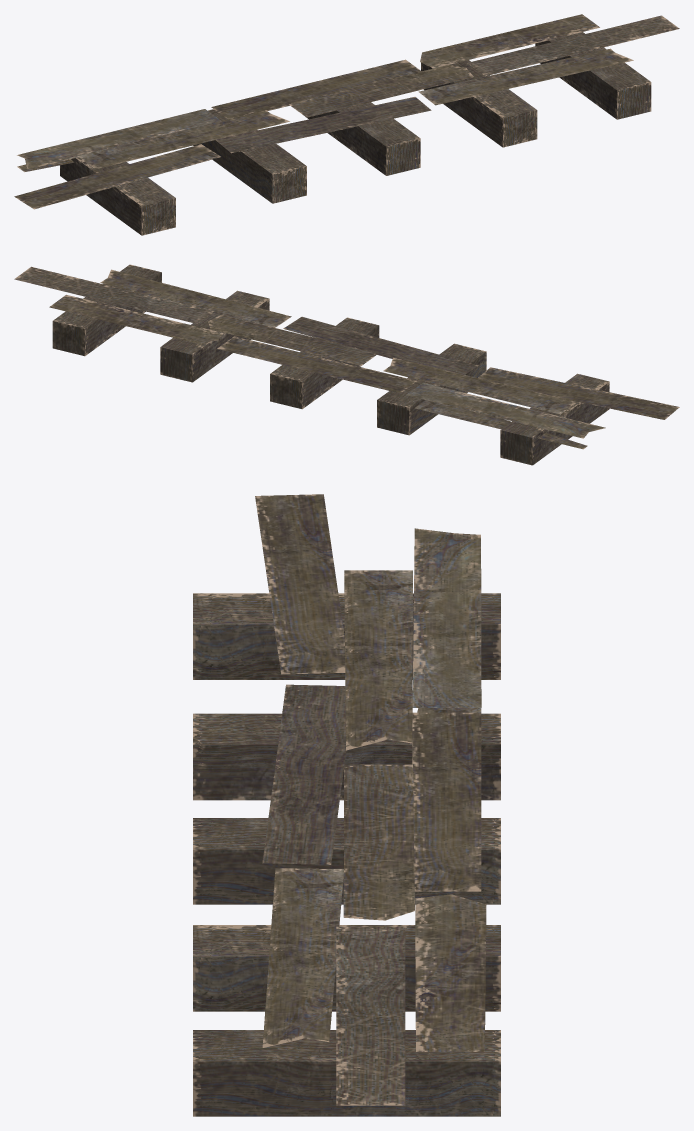
The model's file is Scaffolding_HalfFloor.fbx.
3 renders of one model, top to bottom at view 1: azimuth 30°, elevation 25°; view 2: azimuth 150°, elevation 25°; view 3: azimuth 270°, elevation 25°, orthographic. The views are drawn at different scales.
Parts seen in each view (by area): view 1: CDTMesh_Scaffolding_HalfFloor_LOD; view 2: CDTMesh_Scaffolding_HalfFloor_LOD; view 3: CDTMesh_Scaffolding_HalfFloor_LOD.
Part boxes in pixels (x1,y1,x2,y2): CDTMesh_Scaffolding_HalfFloor_LOD: (14, 14, 679, 235); CDTMesh_Scaffolding_HalfFloor_LOD: (14, 264, 679, 465); CDTMesh_Scaffolding_HalfFloor_LOD: (193, 494, 500, 1116).
Bounding box in the file's own units: 10.66 × 0.6083 × 2.26.
